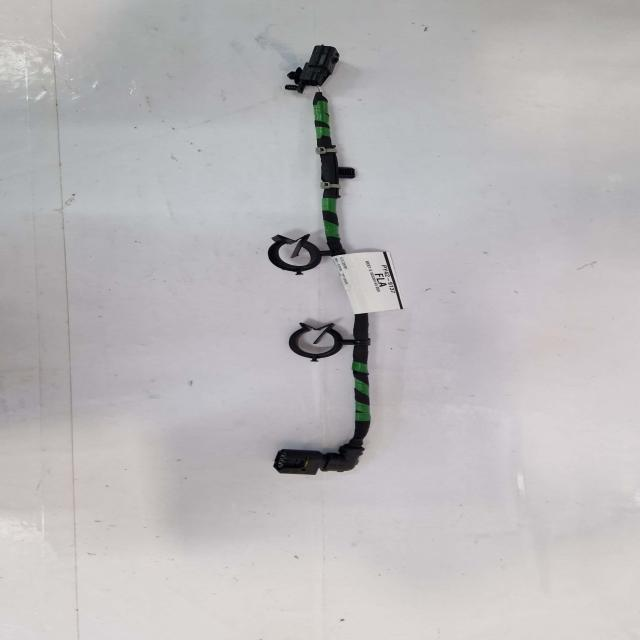AJ20_D6_Cable: (314, 89, 356, 257), (350, 313, 370, 441)
Clip: (289, 321, 371, 360), (267, 235, 331, 275)
Connector: (273, 443, 364, 474), (285, 45, 338, 93)
Info: (325, 246, 398, 309)
strap: (314, 147, 338, 154), (323, 182, 343, 190), (332, 148, 337, 155)
